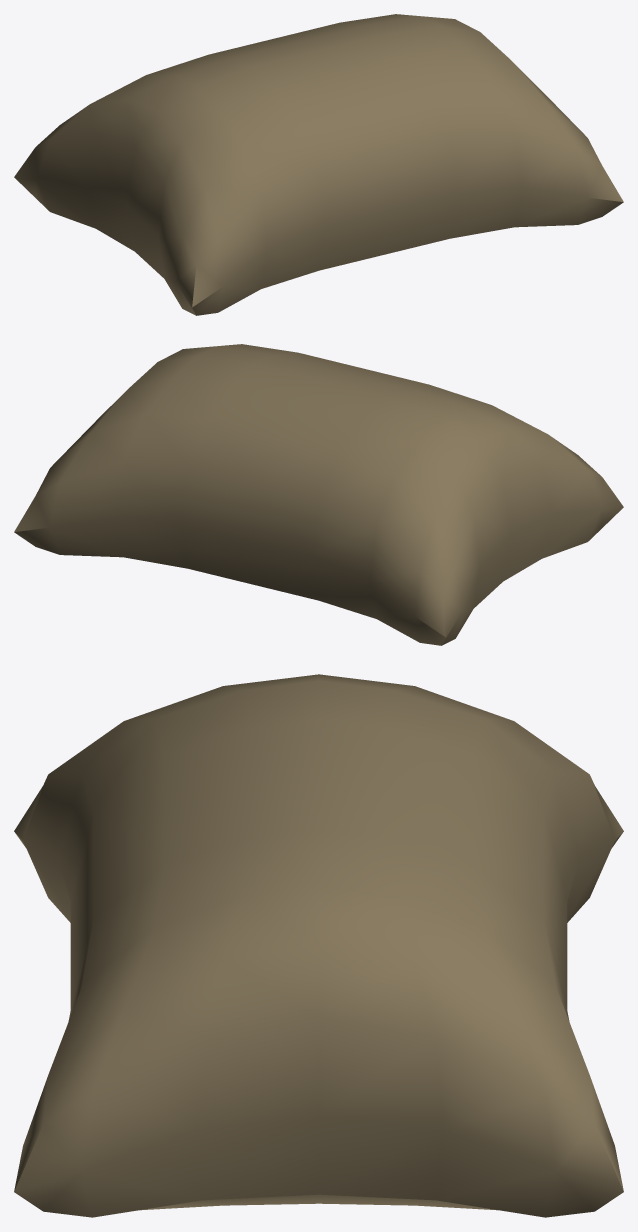
Rendered from bag.glb.
3 renders of one model, top to bottom at view 1: azimuth 30°, elevation 25°; view 2: azimuth 150°, elevation 25°; view 3: azimuth 270°, elevation 25°, orthographic. The views are drawn at different scales.
Visible parts, largest first — view 1: Bag; view 2: Bag; view 3: Bag.
Part boxes in pixels (x1,y1,x2,y2): Bag: (14, 14, 623, 315); Bag: (14, 344, 623, 645); Bag: (14, 674, 623, 1217).
Size of the model in its own units: 0.1535 by 0.0584 by 0.1096.
